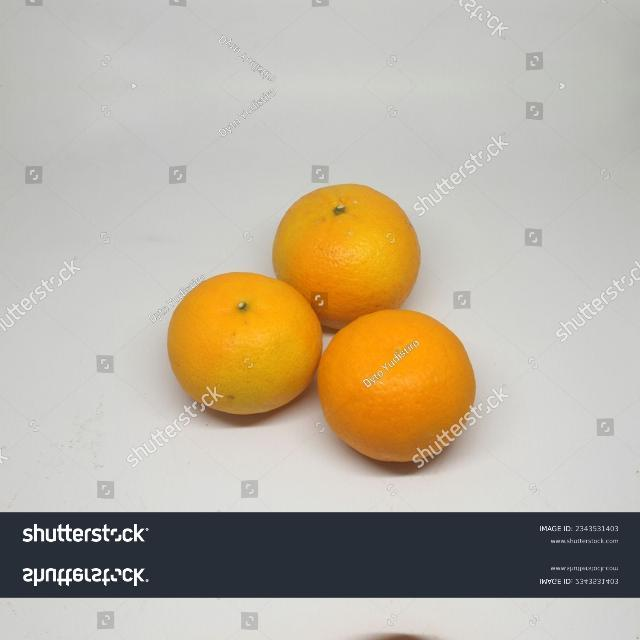Orange: (316, 307, 476, 464), (166, 270, 322, 416), (271, 182, 421, 329)
